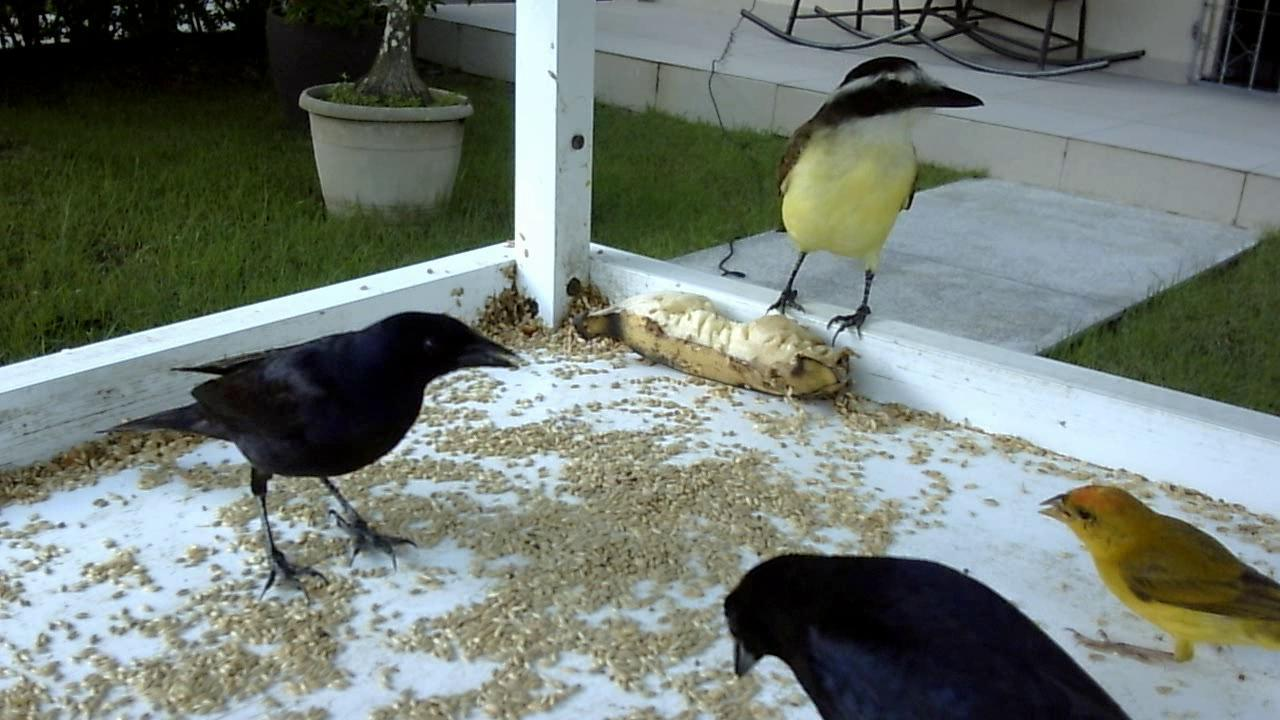bem_te_vi: (709, 45, 989, 359)
canario_do_amazonas: (1027, 475, 1280, 675)
chupim: (96, 300, 524, 614), (712, 541, 1155, 720)
